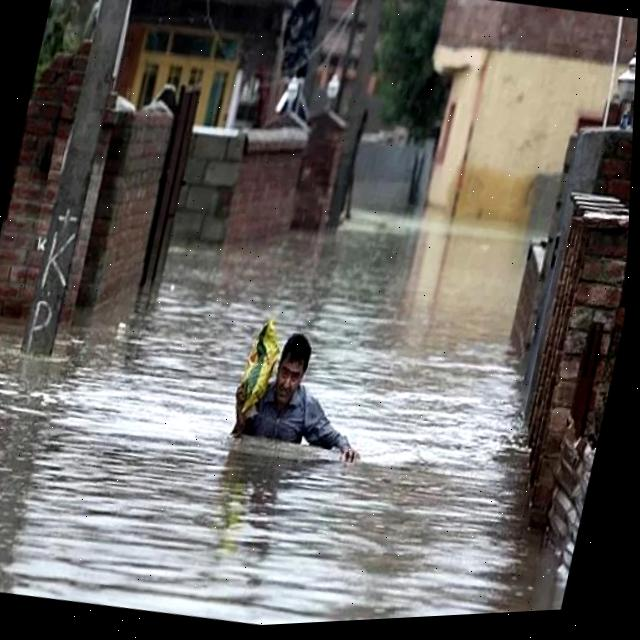civilian: (212, 305, 395, 483)
